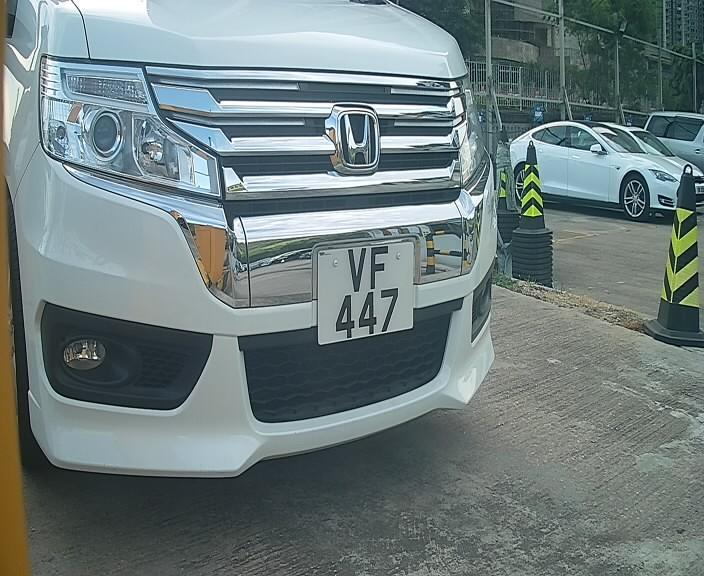privatecar: (6, 2, 513, 518)
